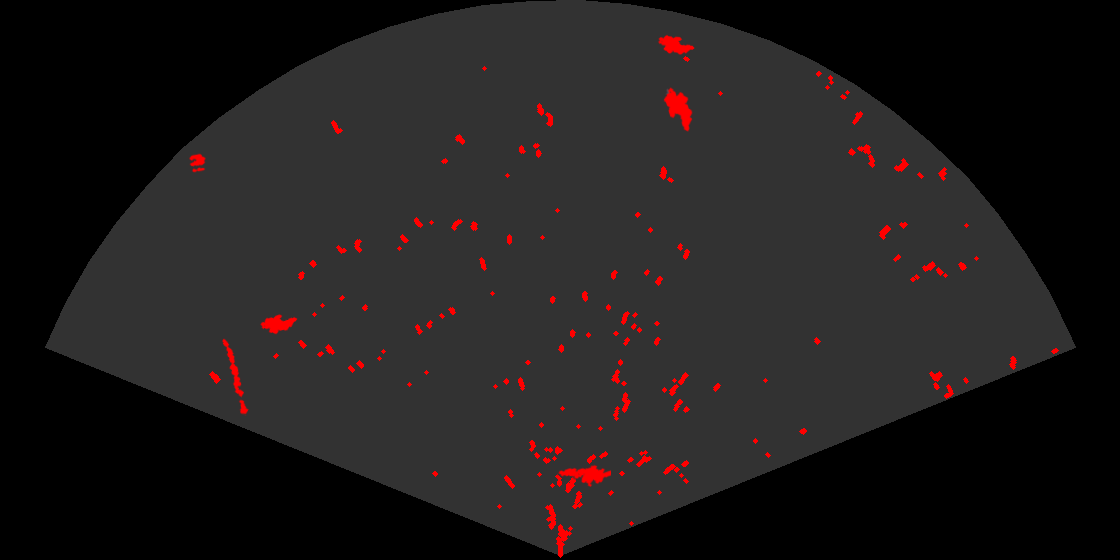AUV: (662, 86, 694, 133), (656, 33, 696, 56), (259, 313, 299, 336)
ball: (188, 152, 207, 174)
chain: (221, 337, 250, 416)
frogman: (557, 463, 611, 488)
